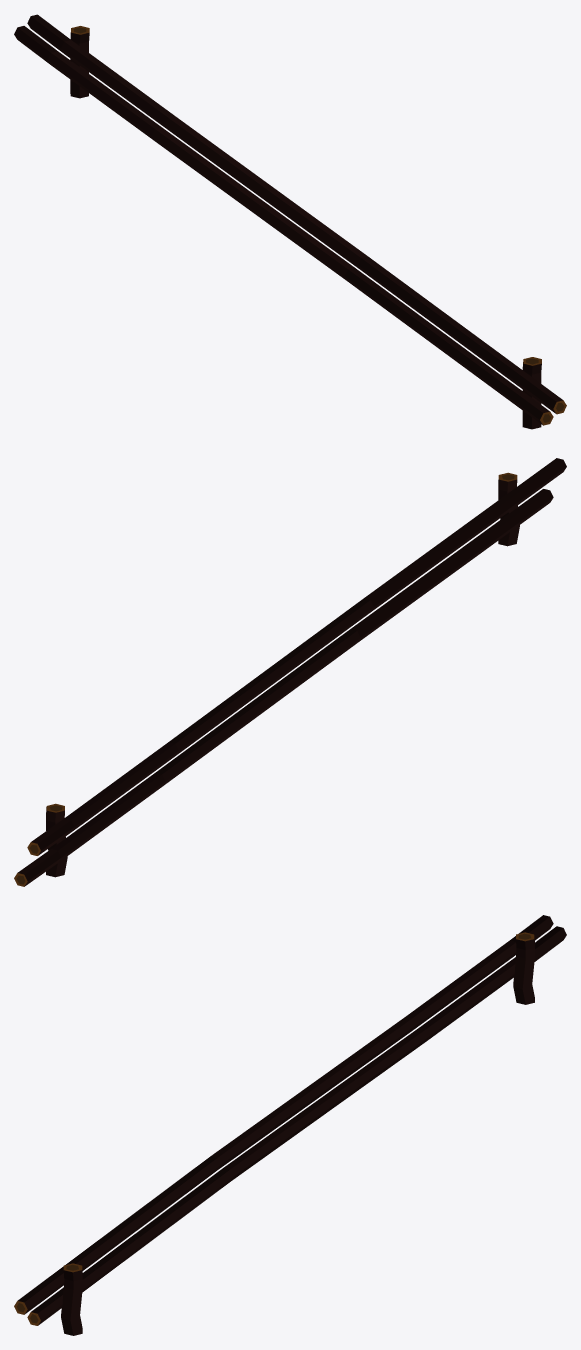
File: railM_1.fbx
The picture shows the model from 3 angles, top to bottom: view 1: azimuth 30°, elevation 25°; view 2: azimuth 150°, elevation 25°; view 3: azimuth 330°, elevation 25°; orthographic projection.
Parts seen in each view (by area): view 1: railM_1; view 2: railM_1; view 3: railM_1.
Boxes of the visible parts, x1,y1,x2,y2 form: railM_1: (14, 14, 566, 429); railM_1: (14, 458, 566, 886); railM_1: (14, 915, 566, 1335).
Bounding box in the file's own units: 0.3333 × 10.51 × 0.6887.
